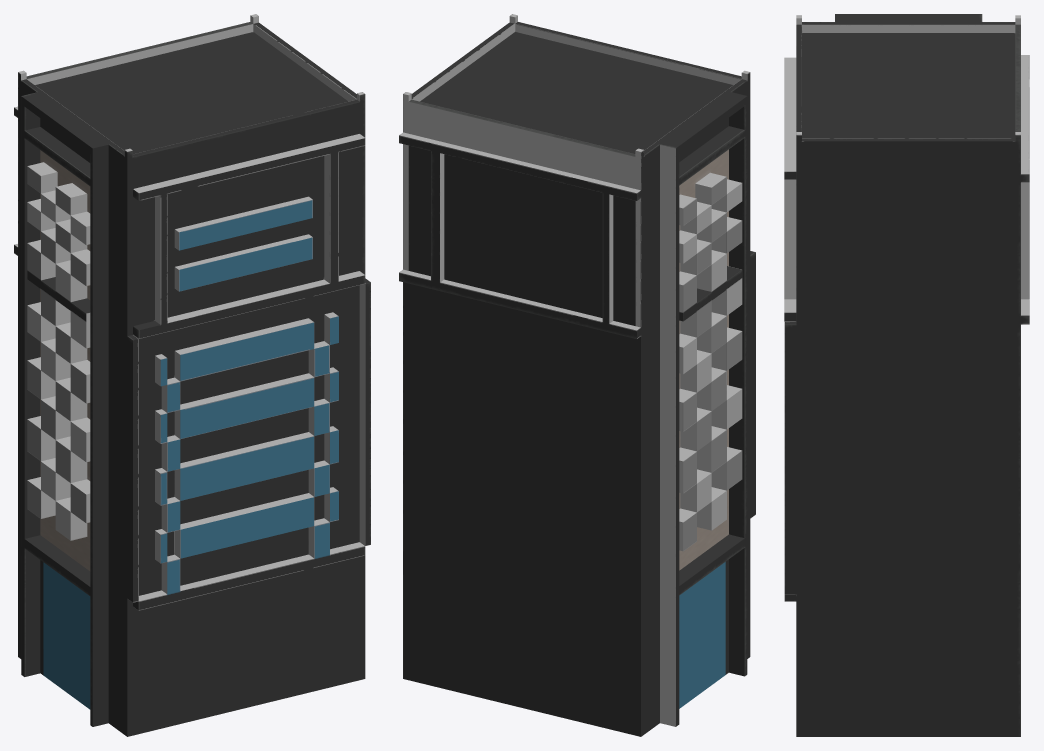
Rendered from ChaosZooCityMapTower07.fbx.
3 views of the same model, side by side, from view 1: azimuth 30°, elevation 25°; view 2: azimuth 150°, elevation 25°; view 3: azimuth 270°, elevation 25° (orthographic). The views are drawn at different scales.
Parts seen in each view (by area): view 1: pCube24; view 2: pCube24; view 3: pCube24.
Part boxes in pixels (box(x1,y1,x2,y2)): pCube24: box(14, 14, 370, 736); pCube24: box(399, 14, 755, 736); pCube24: box(784, 14, 1029, 736).
Bounding box in the file's own units: 53.55 × 118 × 43.37.
